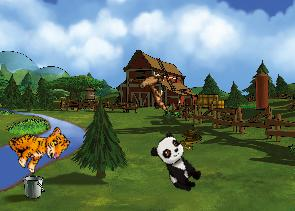eagle: (124, 62, 182, 114)
panda: (146, 130, 208, 196)
tiger: (3, 111, 73, 180)
